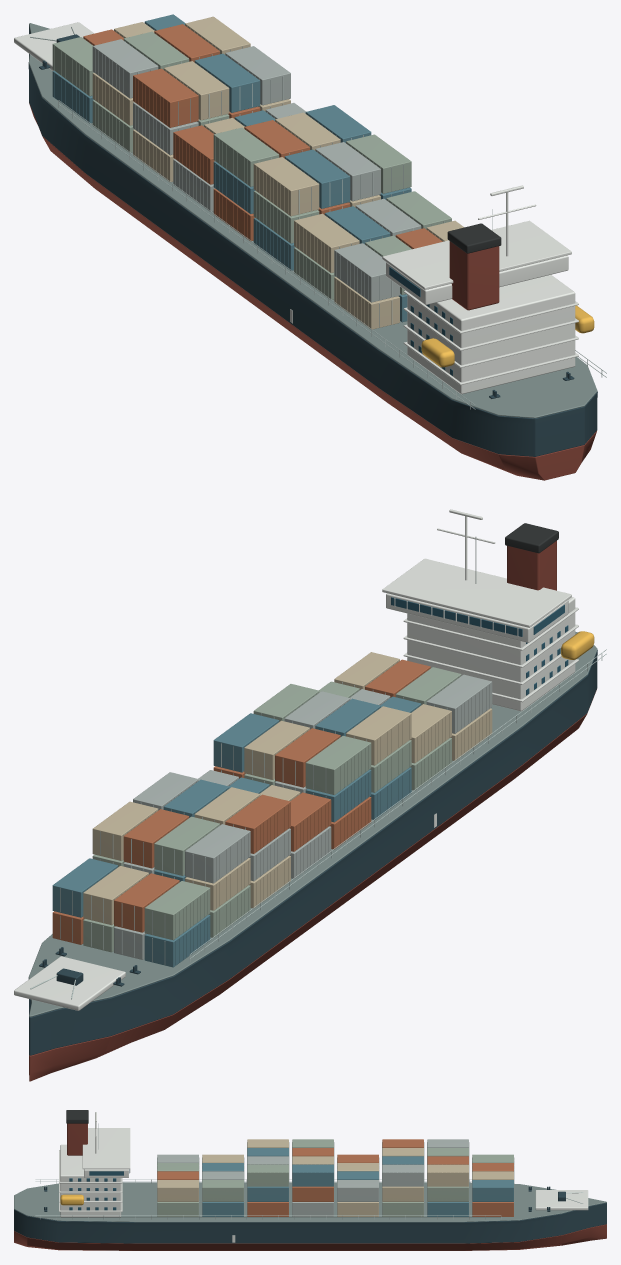
Rendered from atlas-container-ship.glb.
The picture shows the model from 3 angles, top to bottom: view 1: azimuth 30°, elevation 25°; view 2: azimuth 150°, elevation 25°; view 3: azimuth 270°, elevation 25°; orthographic projection. The views are drawn at different scales.
Visible parts, largest first — view 1: Atlas | web mesh; view 2: Atlas | web mesh; view 3: Atlas | web mesh.
Boxes of the visible parts, x1,y1,x2,y2 form: Atlas | web mesh: (14, 14, 606, 480); Atlas | web mesh: (14, 509, 606, 1081); Atlas | web mesh: (14, 1110, 606, 1250).
Bounding box in the file's own units: 37.8 × 53.28 × 224.
